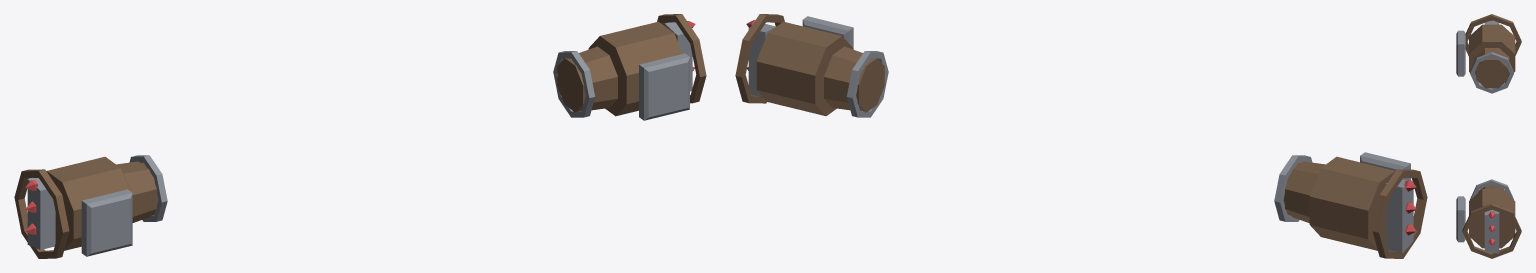
The model's file is emberfists.glb.
3 views of the same model, side by side, from view 1: azimuth 30°, elevation 25°; view 2: azimuth 150°, elevation 25°; view 3: azimuth 270°, elevation 25° (orthographic). The views are drawn at different scales.
Parts seen in each view (by area): view 1: Fist1L, Fist1R, Fist2R, LowerArmL, LowerArmR, Fist2L; view 2: Fist1L, Fist1R, Fist2R, LowerArmL, LowerArmR, Fist2L; view 3: Fist1L, Fist1R, Fist2L, LowerArmR, Fist2R, LowerArmL.
Boxes of the visible parts, x1,y1,x2,y2 form: Fist1L: (588, 21, 689, 120); Fist1R: (46, 156, 132, 256); Fist2R: (14, 169, 69, 258); LowerArmL: (553, 46, 617, 117); LowerArmR: (116, 155, 167, 222); Fist2L: (657, 14, 706, 103); Fist1L: (756, 16, 853, 116); Fist1R: (1309, 152, 1410, 250); Fist2R: (1372, 169, 1427, 258); LowerArmL: (824, 46, 888, 117); LowerArmR: (1274, 155, 1325, 223); Fist2L: (735, 14, 784, 103); Fist1L: (1456, 189, 1515, 248); Fist1R: (1456, 24, 1515, 76); Fist2L: (1462, 203, 1521, 258); LowerArmR: (1470, 48, 1513, 93); Fist2R: (1465, 14, 1521, 56); LowerArmL: (1470, 179, 1513, 199).
Bounding box in the file's own units: 3.2 × 0.4011 × 0.4426.
